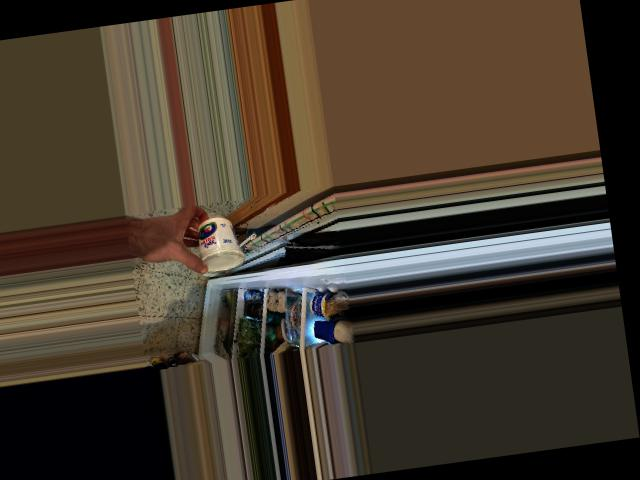cotage: (191, 214, 243, 276)
